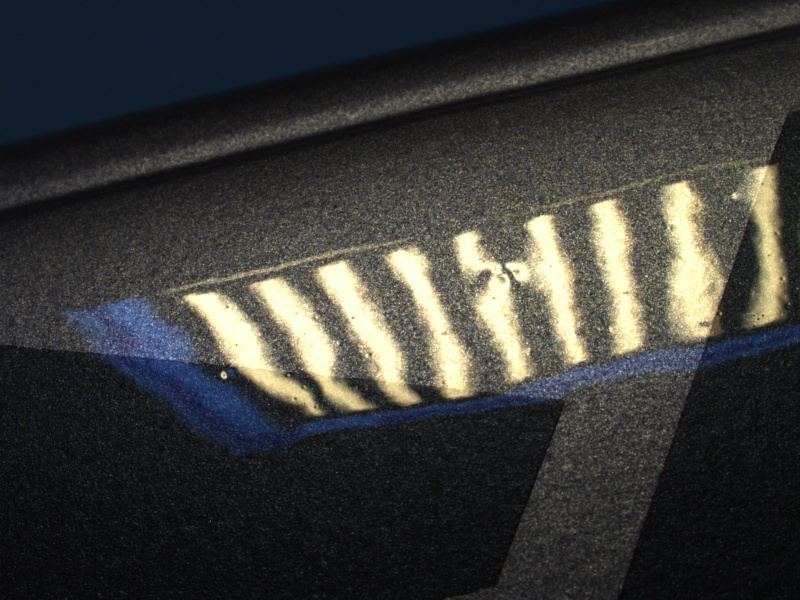bad: (470, 243, 545, 302)
